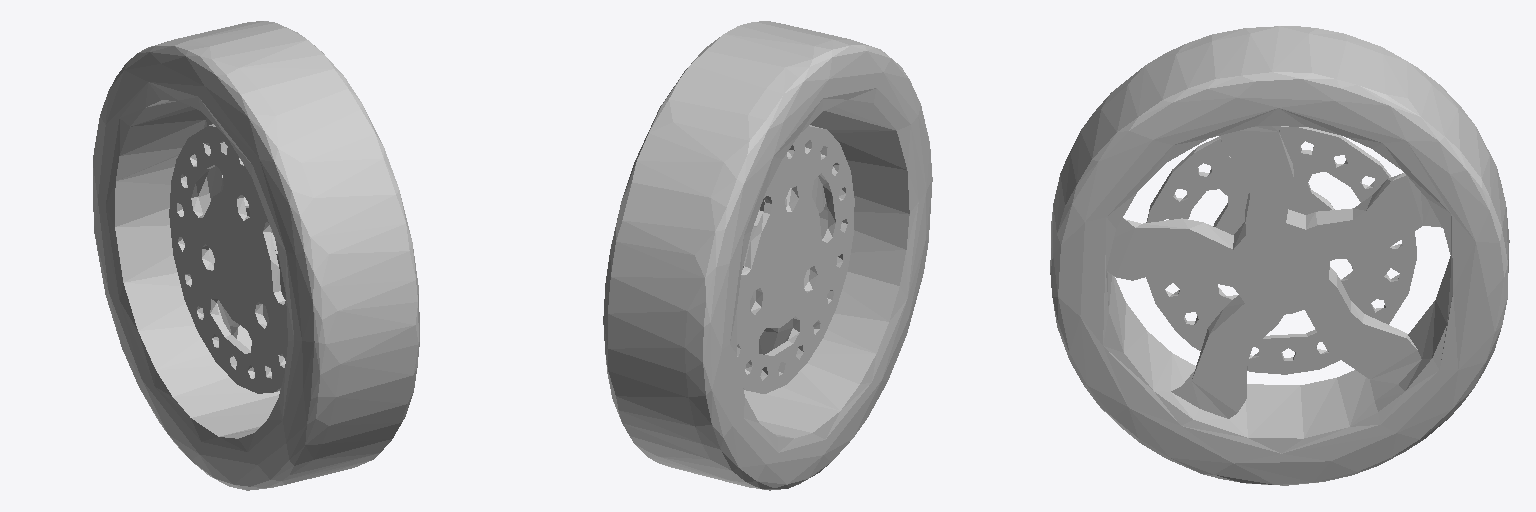
The model's file is wheel.obj.
The picture shows the model from 3 angles: view 1: azimuth 30°, elevation 25°; view 2: azimuth 150°, elevation 25°; view 3: azimuth 270°, elevation 25°; orthographic projection.
Parts seen in each view (by area): view 1: objMesh.001; view 2: objMesh.001; view 3: objMesh.001.
Boxes of the visible parts, box(x1,y1,x2,y2) form: objMesh.001: box(93, 21, 419, 490); objMesh.001: box(603, 21, 932, 490); objMesh.001: box(1050, 26, 1509, 485).
Bounding box in the file's own units: 6 × 21.12 × 21.14.